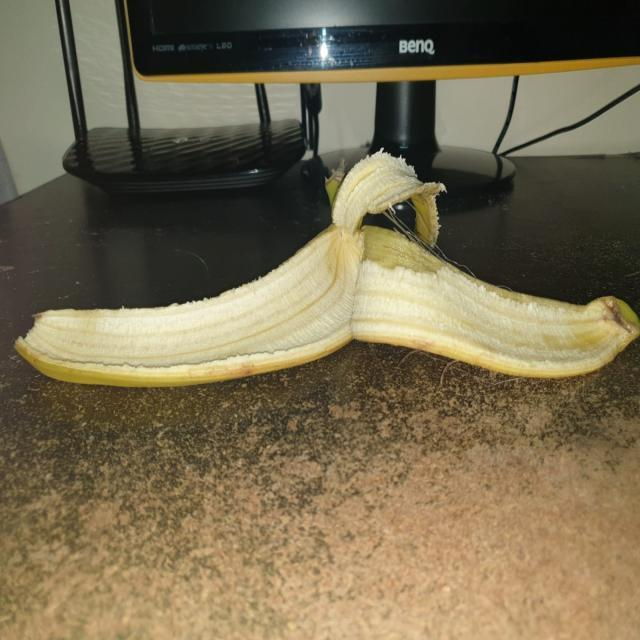banana-peel: (13, 147, 639, 388)
